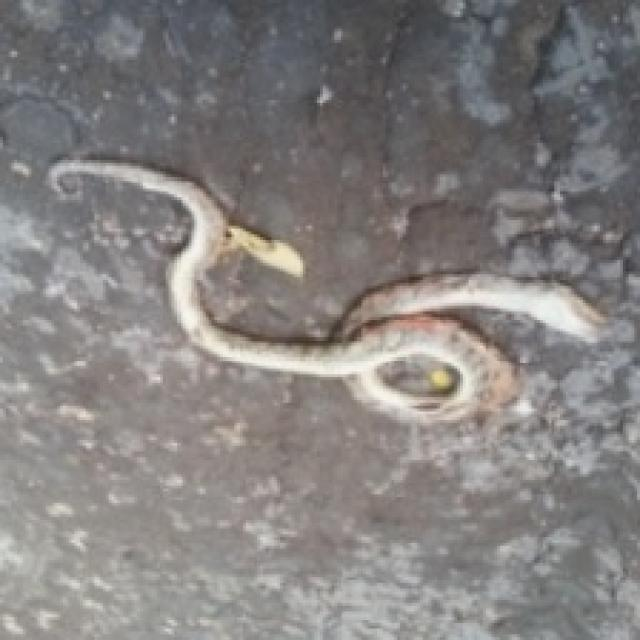reticulated python: (49, 160, 603, 423)
